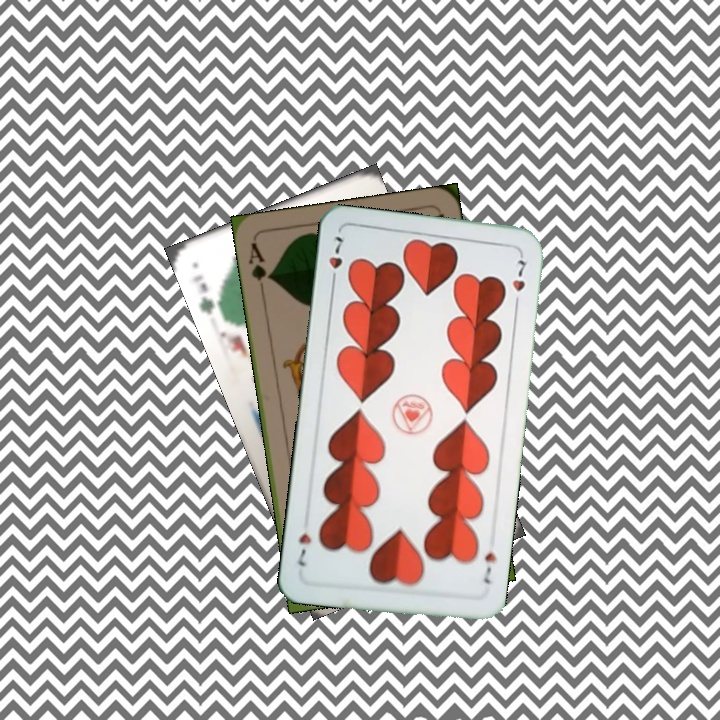GA: (244, 238, 274, 297)
GK: (188, 270, 225, 317)
H7: (325, 232, 346, 289), (479, 548, 499, 586)
